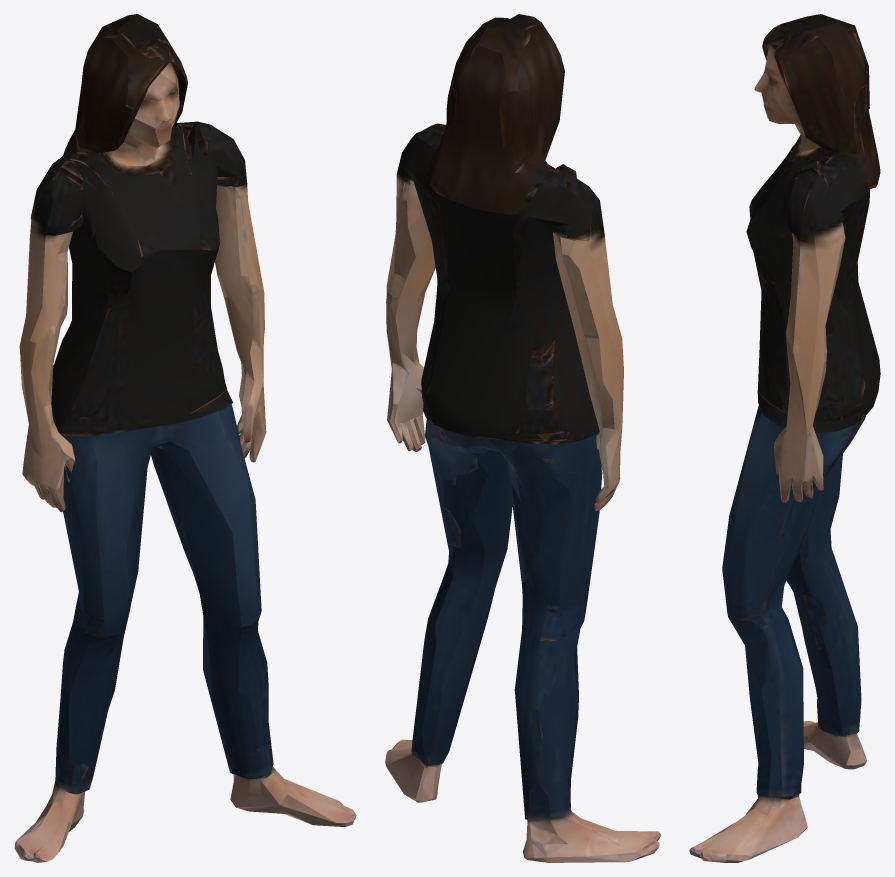
Rendered from wanita_lain_idle_lod2.glb.
The picture shows the model from 3 angles, left to right: view 1: azimuth 30°, elevation 25°; view 2: azimuth 150°, elevation 25°; view 3: azimuth 270°, elevation 25°; orthographic projection. The views are drawn at different scales.
Visible parts, largest first — view 1: tripo_node_25841f66; view 2: tripo_node_25841f66; view 3: tripo_node_25841f66.
Part boxes in pixels (x1=…): tripo_node_25841f66: x1=14, y1=14, x2=356, y2=862; tripo_node_25841f66: x1=385, y1=14, x2=660, y2=862; tripo_node_25841f66: x1=689, y1=14, x2=880, y2=862.
Bounding box in the file's own units: 39.35 × 102 × 22.82.
1 material, 1 textured.
